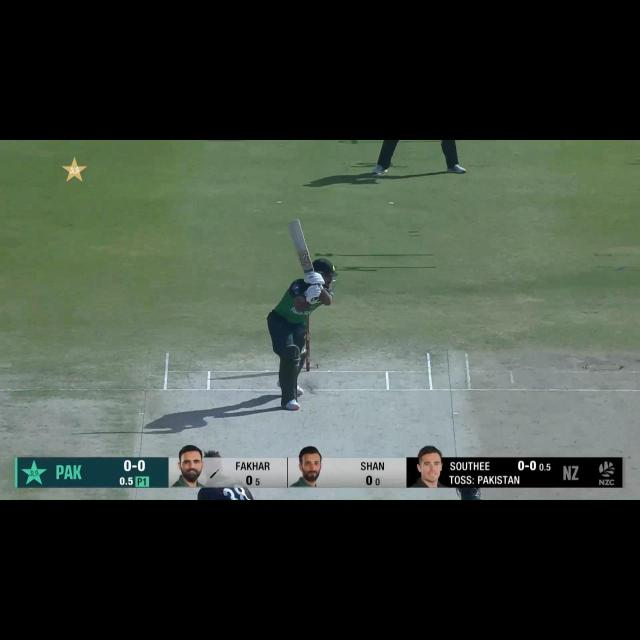bat: (287, 219, 318, 275)
toe: (286, 218, 302, 228)
